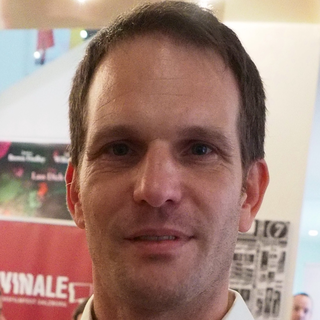eye: (177, 138, 221, 163), (95, 140, 140, 163)
